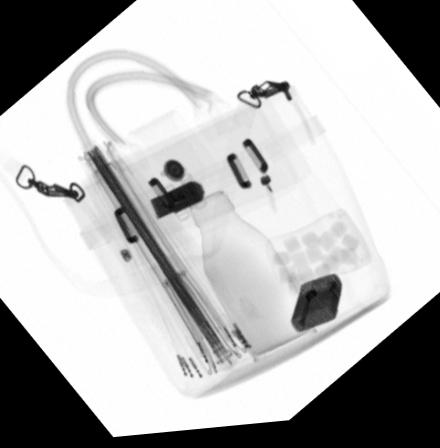Lighter: (290, 279, 342, 338)
